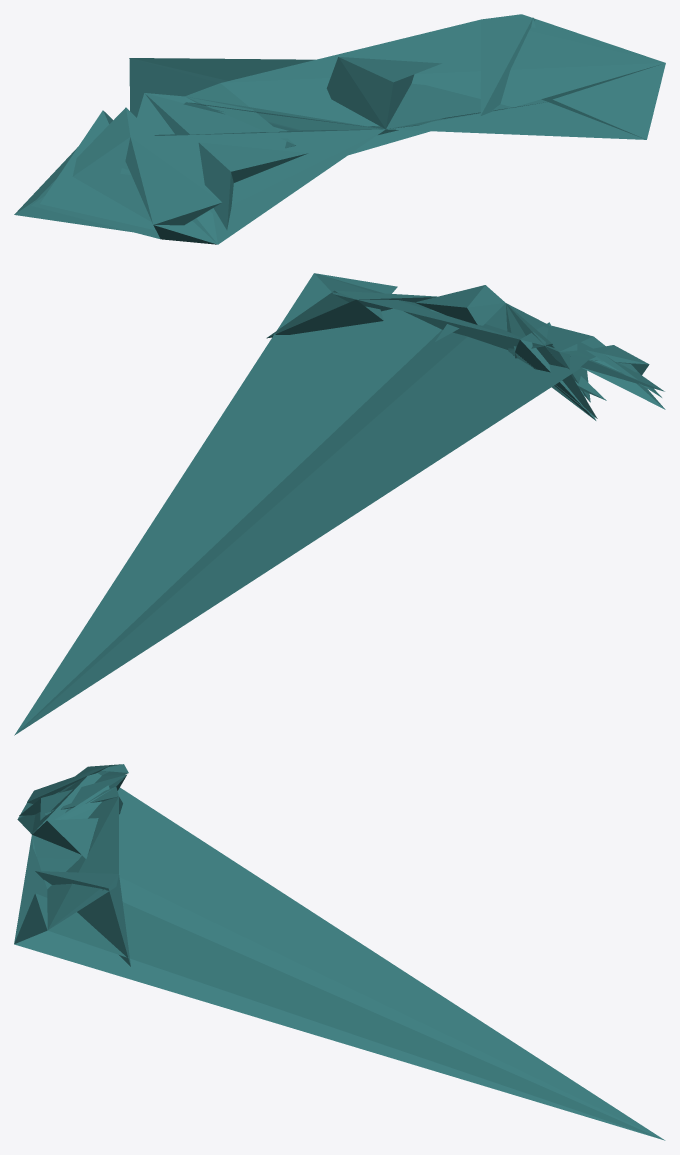
The model's file is Smaller Turquoise Killer T Cell.fbx.
The picture shows the model from 3 angles, top to bottom: view 1: azimuth 30°, elevation 25°; view 2: azimuth 150°, elevation 25°; view 3: azimuth 270°, elevation 25°; orthographic projection. The views are drawn at different scales.
Parts seen in each view (by area): view 1: Small_Killer_T_Cell:Killer_T_Cell:Mesh; view 2: Small_Killer_T_Cell:Killer_T_Cell:Mesh; view 3: Small_Killer_T_Cell:Killer_T_Cell:Mesh.
Part boxes in pixels (<box>): Small_Killer_T_Cell:Killer_T_Cell:Mesh: <box>14,14,665,244</box>; Small_Killer_T_Cell:Killer_T_Cell:Mesh: <box>14,273,665,735</box>; Small_Killer_T_Cell:Killer_T_Cell:Mesh: <box>14,764,665,1140</box>.
Bounding box in the file's own units: 0.9266 × 0.5857 × 1.4.
